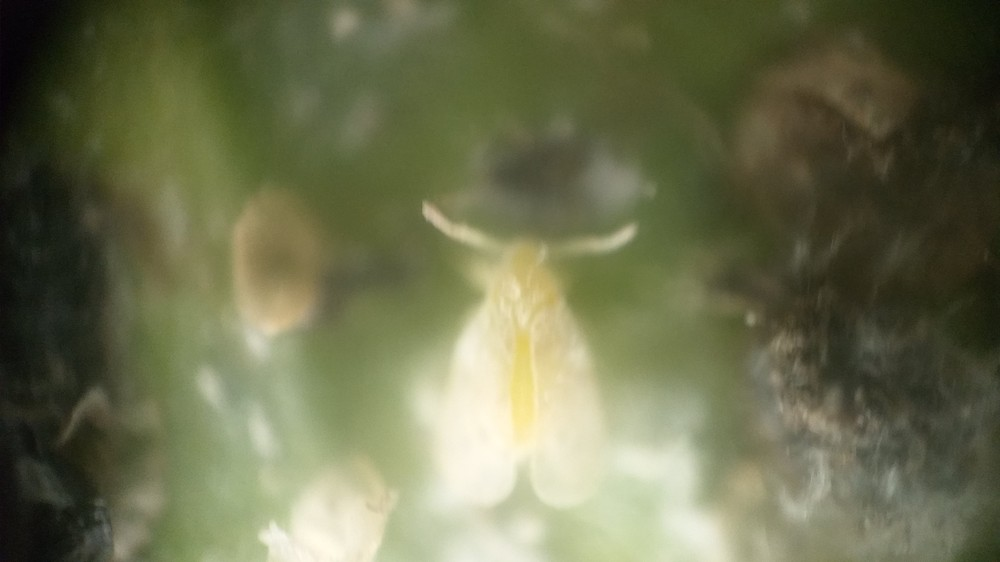Mosca Blanca: (378, 199, 668, 525)
